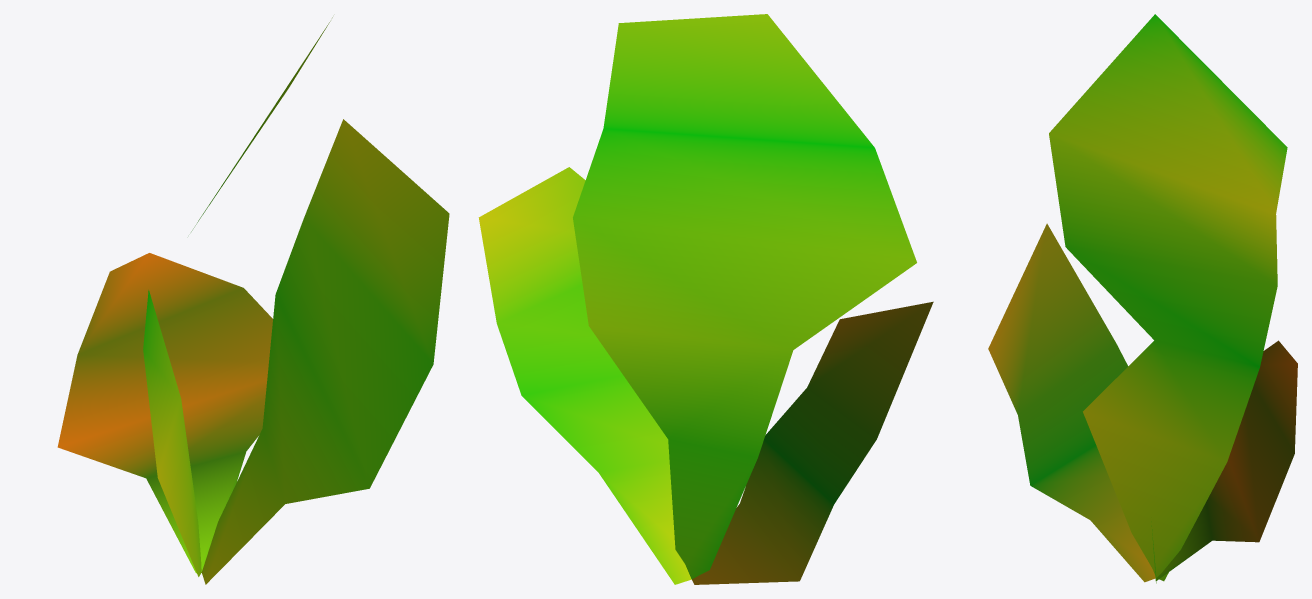
The model's file is seaweedgreen.glb.
3 renders of one model, left to right at view 1: azimuth 30°, elevation 25°; view 2: azimuth 150°, elevation 25°; view 3: azimuth 270°, elevation 25°, orthographic. The views are drawn at different scales.
Visible parts, largest first — view 1: seaweedGreen; view 2: seaweedGreen; view 3: seaweedGreen.
Part boxes in pixels (<box>): seaweedGreen: <box>57,17,449,584</box>; seaweedGreen: <box>478,14,933,584</box>; seaweedGreen: <box>988,14,1297,583</box>.
Size of the model in its own units: 3.33 by 4.69 by 2.8.
